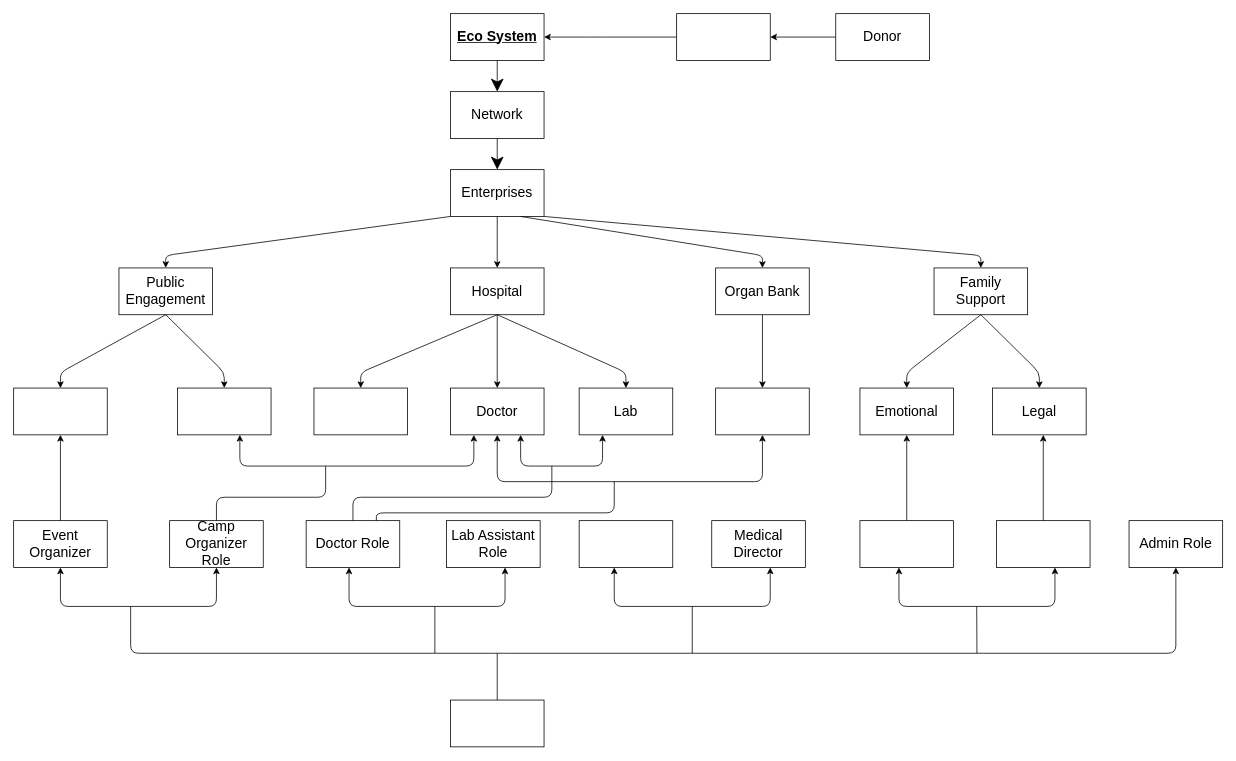
Some shapes in this 1236 by 761 pixel diagram are drawn without their labels. Each missing label, with the centre of its shape:
"Counselor Role" goes at (x=906, y=543).
"Director" goes at (x=762, y=411).
"Donor Directory" goes at (x=723, y=36).
"Field Checkup" goes at (x=224, y=411).
"Legal Advisor Role" goes at (x=1043, y=543).
"Patient" goes at (x=360, y=411).
"Patient Role" goes at (x=625, y=543).
"Public Awareness" goes at (x=60, y=411).
"Roles" goes at (x=497, y=723).
